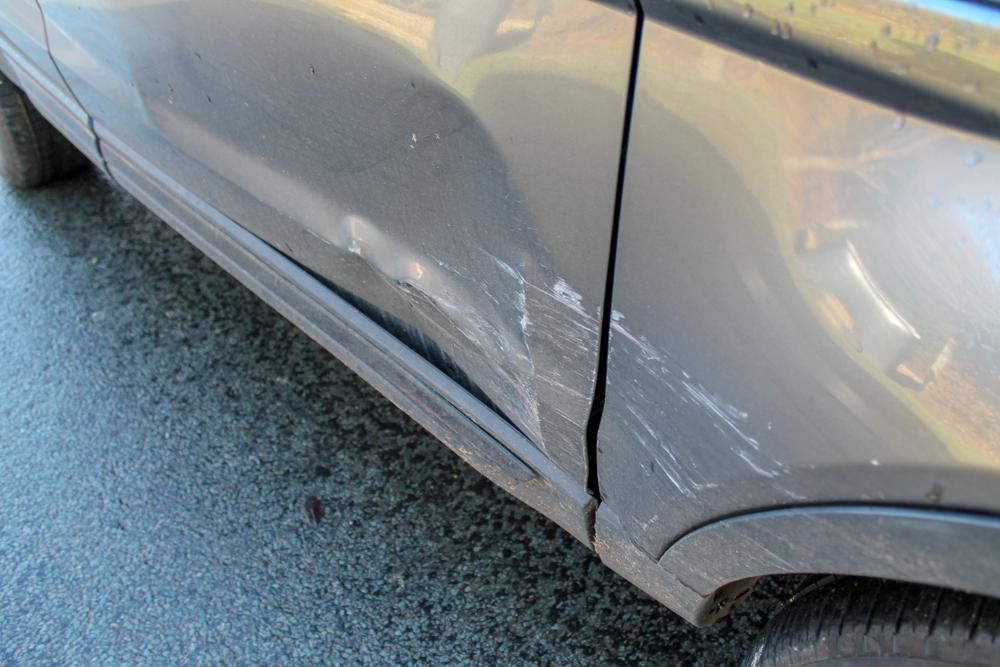dent: (264, 37, 588, 483)
scratch: (603, 310, 801, 507), (555, 278, 603, 430)
